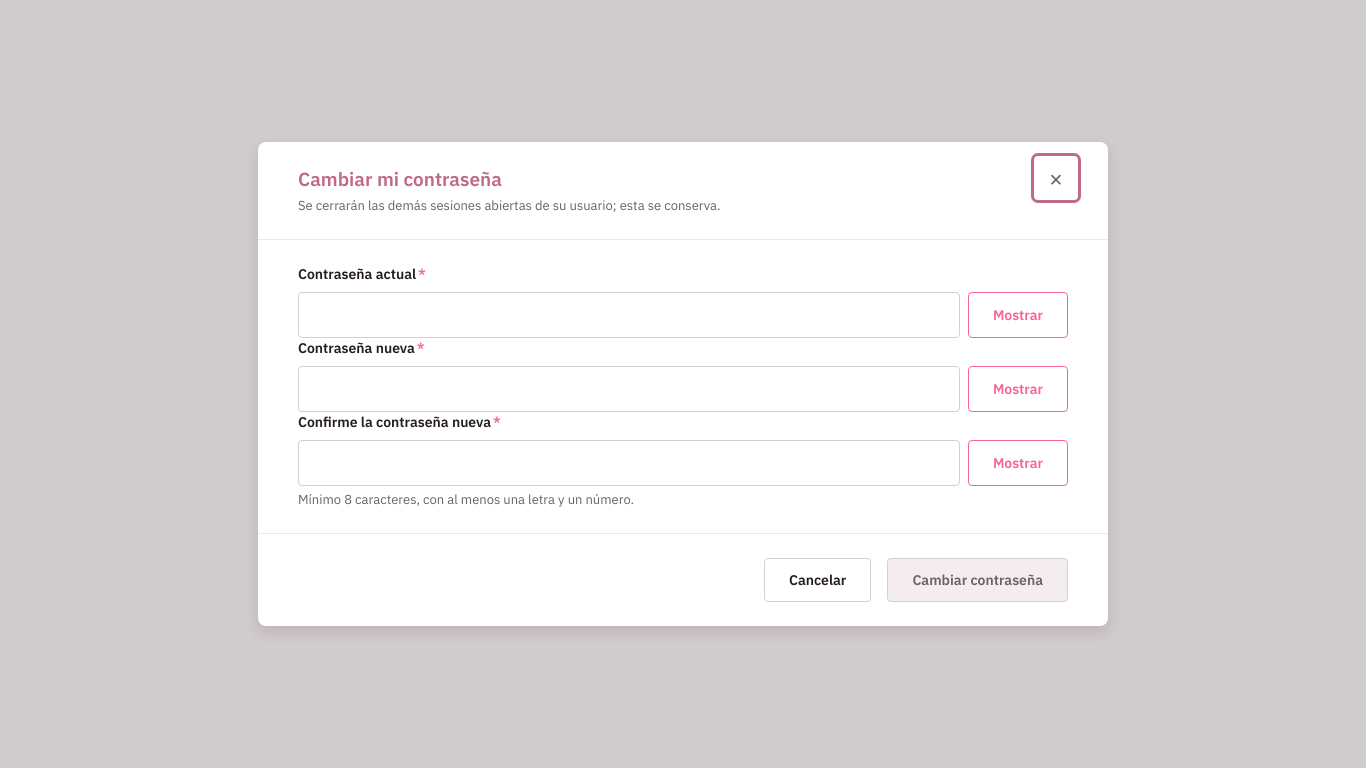
Test case: ModalCambiarPassword › con el último intento gastado deshabilita el envío
Type "incorrecta1" into the password field labelled "Contraseña actual*" at (629, 315), box [298,292,960,338]
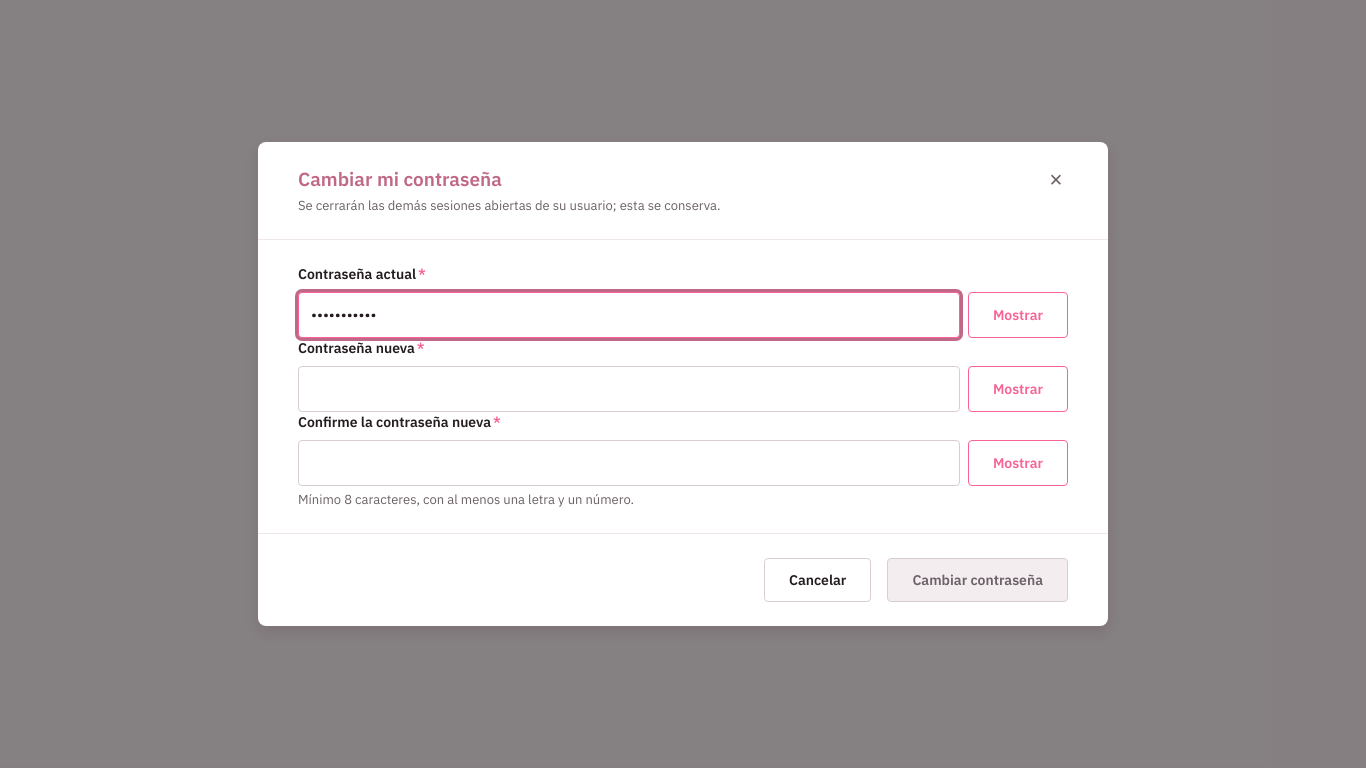
Type "NuevaClave123" into the password field labelled "Contraseña nueva*" at (629, 389), box [298,366,960,412]
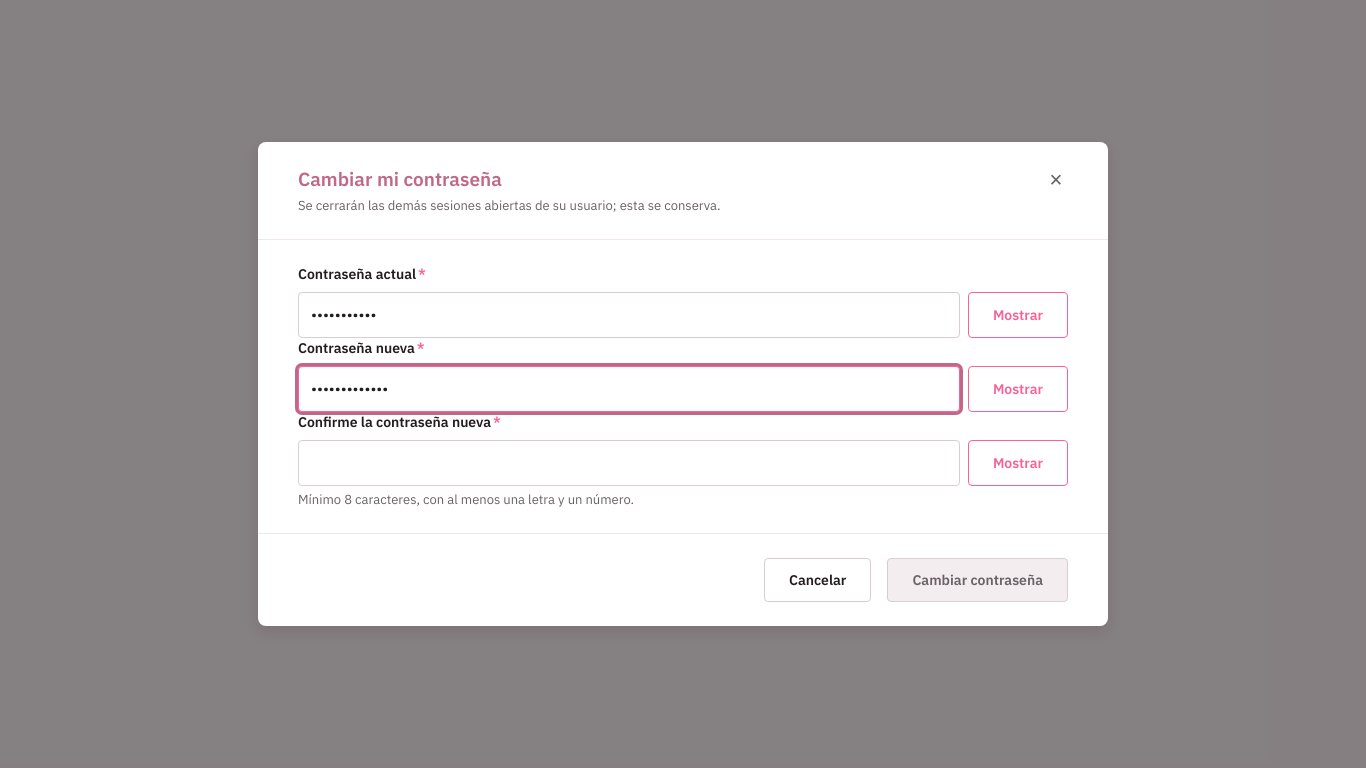
Type "NuevaClave123" into the password field labelled "Confirme la contraseña nueva*" at (629, 463), box [298,440,960,486]
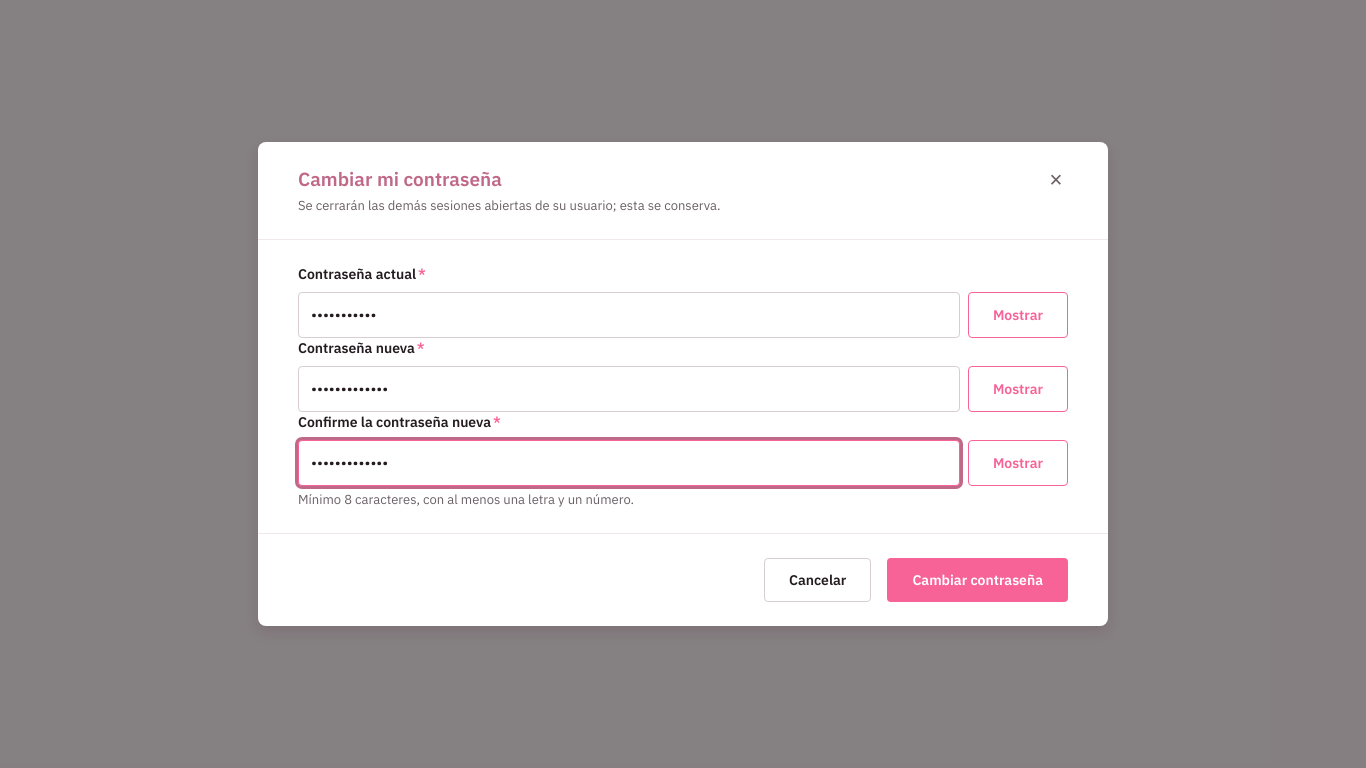
Click the button "Cambiar contraseña" at (978, 580), box [887,558,1068,602]
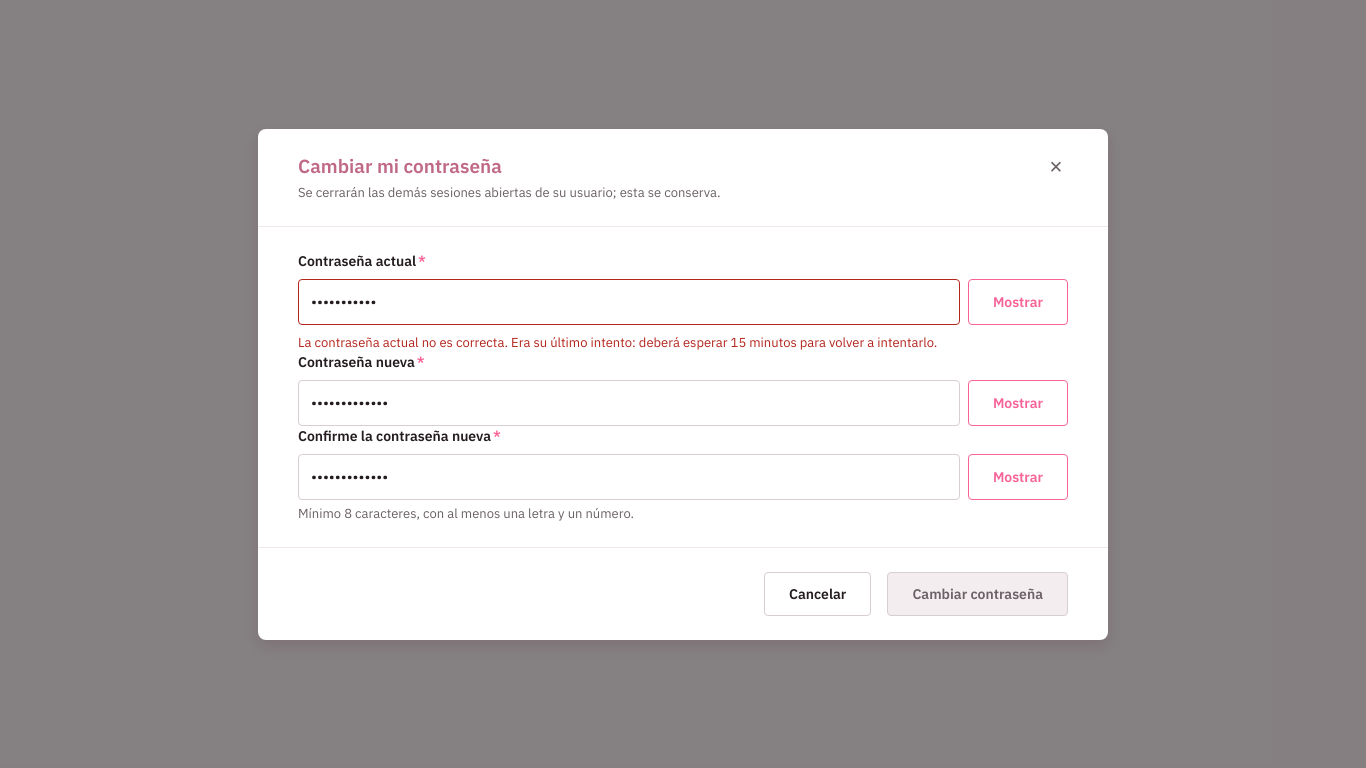
Now the text "último intento" is shown, box [298,334,937,350]
Now the button "Cambiar contraseña" is disabled, box [887,572,1068,616]
